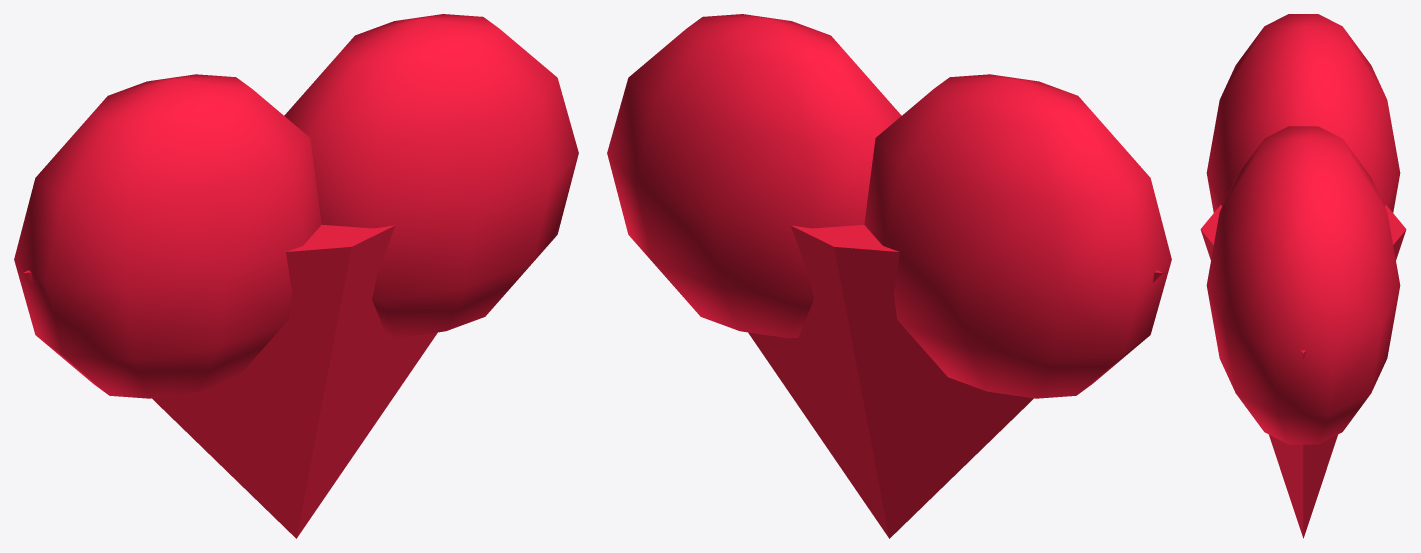
The model's file is heart.obj.
3 renders of one model, left to right at view 1: azimuth 30°, elevation 25°; view 2: azimuth 150°, elevation 25°; view 3: azimuth 270°, elevation 25°, orthographic. The views are drawn at different scales.
Visible parts, largest first — view 1: heart; view 2: heart; view 3: heart.
Part boxes in pixels (left/top/right/bottom): heart: left=14, top=14, right=578, bottom=538; heart: left=607, top=14, right=1171, bottom=538; heart: left=1200, top=14, right=1406, bottom=538.
Size of the model in its own units: 0.31 by 0.265 by 0.1085.
